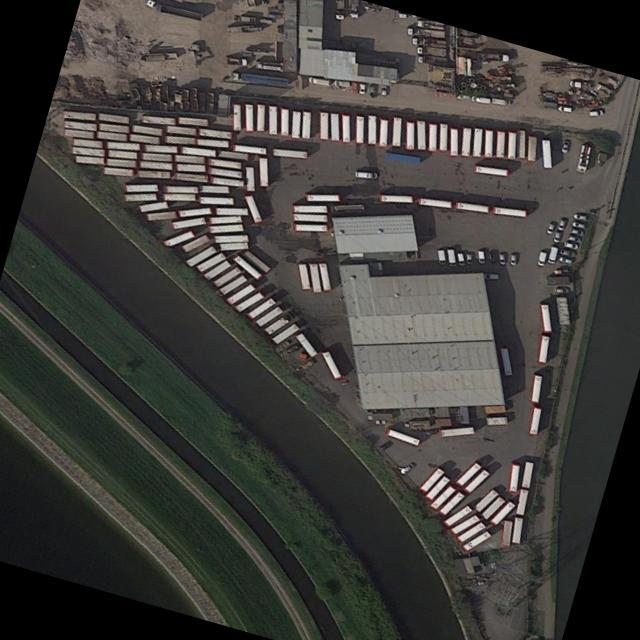large-vehicle: (229, 251, 264, 279), (238, 246, 270, 272), (458, 528, 491, 553), (183, 243, 217, 267), (426, 482, 455, 510), (487, 498, 514, 527), (261, 311, 293, 335), (436, 489, 464, 516), (453, 460, 481, 487), (224, 280, 254, 305), (440, 503, 471, 527), (210, 263, 241, 287), (231, 289, 263, 312), (160, 227, 195, 248), (422, 474, 449, 501), (416, 465, 443, 492), (461, 467, 489, 493), (453, 520, 484, 543), (318, 348, 341, 379), (216, 272, 247, 295), (245, 296, 274, 320), (447, 513, 478, 535), (194, 250, 225, 272), (384, 426, 418, 446), (478, 494, 505, 519), (269, 321, 298, 344), (252, 304, 282, 326), (200, 258, 230, 280), (471, 487, 497, 512), (178, 232, 208, 253), (292, 331, 316, 357), (242, 192, 262, 223), (166, 214, 204, 229), (574, 143, 590, 174), (195, 126, 231, 139), (406, 26, 444, 38), (416, 195, 451, 208), (453, 200, 488, 213), (513, 486, 528, 516), (535, 333, 550, 362), (178, 144, 214, 156), (206, 221, 242, 233), (95, 110, 128, 123), (207, 165, 240, 178), (491, 205, 526, 217), (538, 302, 552, 332), (498, 345, 512, 375), (410, 35, 445, 47), (176, 204, 211, 216), (307, 261, 321, 291), (136, 199, 168, 212), (144, 208, 176, 221), (472, 163, 506, 175), (69, 144, 103, 156), (172, 170, 206, 182), (208, 175, 242, 187), (175, 114, 208, 126), (270, 147, 306, 158), (231, 142, 264, 154), (290, 211, 326, 222), (128, 123, 161, 135), (438, 425, 474, 436), (509, 515, 523, 543), (498, 518, 512, 546), (527, 406, 541, 434), (316, 261, 330, 289), (539, 137, 552, 167), (415, 44, 445, 57), (193, 136, 228, 147), (120, 191, 155, 202), (127, 132, 159, 144), (206, 157, 240, 168), (62, 119, 96, 130), (60, 109, 94, 120), (215, 148, 246, 160), (94, 129, 125, 141), (459, 125, 471, 156), (217, 239, 248, 251), (210, 232, 247, 242), (519, 460, 532, 488), (376, 117, 388, 147), (327, 203, 363, 213), (256, 156, 268, 186), (528, 372, 540, 402), (103, 140, 139, 150), (197, 194, 233, 204), (121, 182, 157, 192), (163, 124, 195, 135), (139, 150, 171, 161), (104, 148, 136, 159), (296, 262, 309, 289), (141, 142, 176, 152), (134, 168, 169, 178), (136, 159, 171, 169), (96, 121, 127, 132), (390, 115, 401, 146), (72, 153, 103, 164), (61, 127, 92, 138), (140, 114, 174, 124), (524, 133, 536, 161), (506, 463, 518, 491), (266, 103, 277, 133), (425, 121, 436, 151), (470, 126, 481, 156), (101, 165, 131, 176), (290, 222, 326, 231), (290, 203, 326, 212), (303, 192, 339, 201), (103, 157, 135, 167), (242, 101, 253, 130), (299, 109, 310, 138), (504, 129, 515, 158), (172, 153, 203, 163), (403, 119, 413, 150), (415, 54, 446, 64), (377, 193, 411, 202), (213, 206, 247, 215), (206, 214, 240, 223), (163, 134, 193, 144), (436, 120, 446, 150), (447, 125, 457, 155), (71, 137, 101, 147), (254, 102, 264, 131), (278, 105, 288, 134), (339, 113, 349, 142), (482, 128, 492, 157), (514, 128, 524, 157), (161, 184, 197, 192), (243, 164, 254, 190), (289, 109, 299, 137), (231, 102, 241, 130), (317, 111, 327, 139), (494, 129, 504, 157), (174, 162, 205, 171), (160, 192, 194, 200), (354, 114, 363, 144), (366, 114, 375, 144), (415, 118, 424, 148), (329, 111, 338, 140), (198, 184, 228, 192)
small-vehicle: (546, 243, 558, 264), (469, 94, 489, 104), (398, 461, 413, 474), (558, 137, 569, 154), (558, 246, 575, 257), (565, 231, 580, 243), (308, 76, 328, 85), (434, 248, 446, 263), (353, 170, 375, 178), (535, 249, 546, 265), (490, 96, 509, 105), (445, 247, 454, 265), (570, 219, 586, 229), (568, 225, 583, 235), (556, 103, 571, 113), (455, 250, 465, 265), (475, 248, 485, 263), (557, 255, 573, 264), (587, 107, 603, 116), (332, 78, 348, 87), (555, 217, 565, 231), (551, 229, 561, 242), (544, 221, 554, 234), (482, 271, 498, 279), (562, 240, 576, 249), (572, 211, 586, 220), (486, 251, 495, 264), (496, 251, 505, 264), (508, 251, 516, 265), (464, 251, 472, 264), (357, 83, 365, 93), (367, 84, 374, 95), (379, 85, 386, 95)
